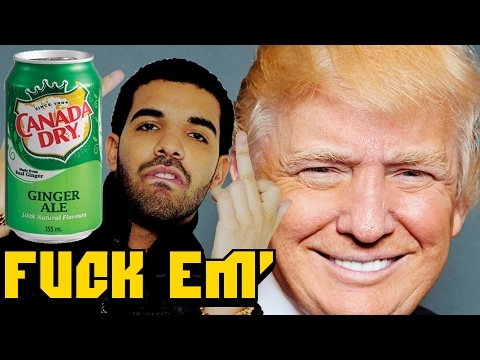Lata: (2, 47, 108, 245)
